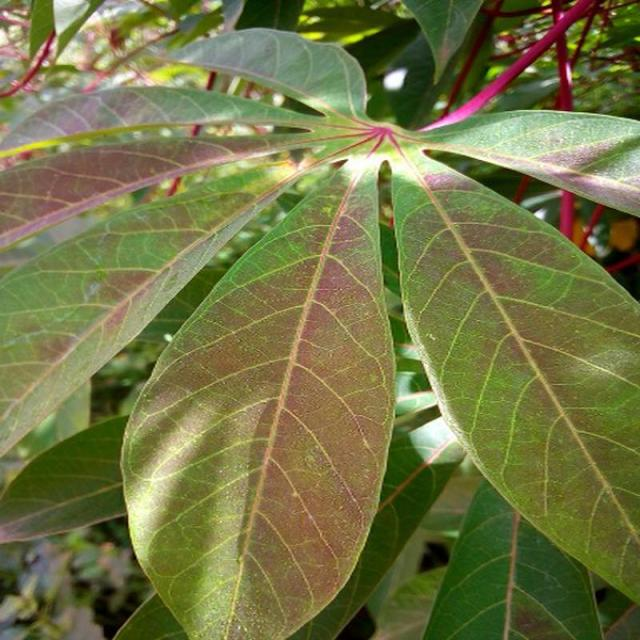cassava leaf: (2, 8, 640, 637), (120, 152, 398, 638), (391, 153, 640, 608)
